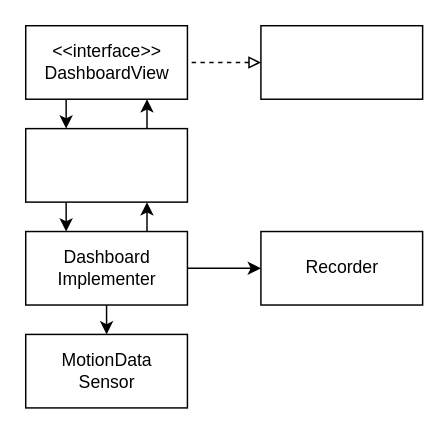
Some shapes in this 448 by 434 pixel diagram are drawn without their labels. The centre of each missing label's shape, as x and y in pixels:
Dashboard Presenter: point 105,164
MainActivity: point 341,61
